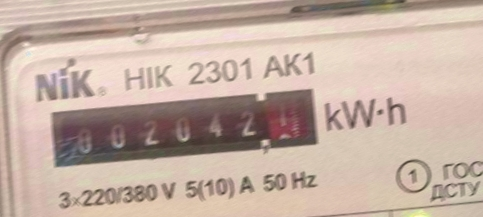0: (73, 125, 94, 157), (172, 114, 193, 146), (107, 121, 127, 153)
1: (273, 99, 290, 131)
2: (140, 118, 161, 149), (237, 108, 257, 139)
4: (204, 109, 225, 142)
screen: (44, 82, 324, 181)
